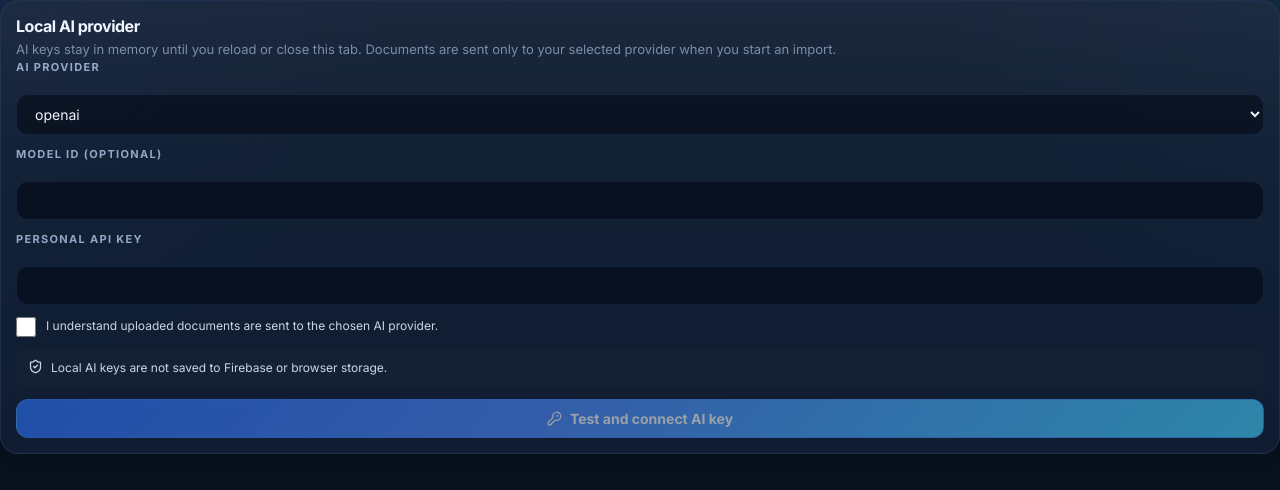
Local AI provider manager session-only UX › never stores a failed provider key
The width and height of the screenshot is (1280, 490).
Type "INVALID_SYNTHETIC_KEY" into the password field labelled "Personal API key" at (640, 285), box left=16, top=266, right=1264, bottom=304
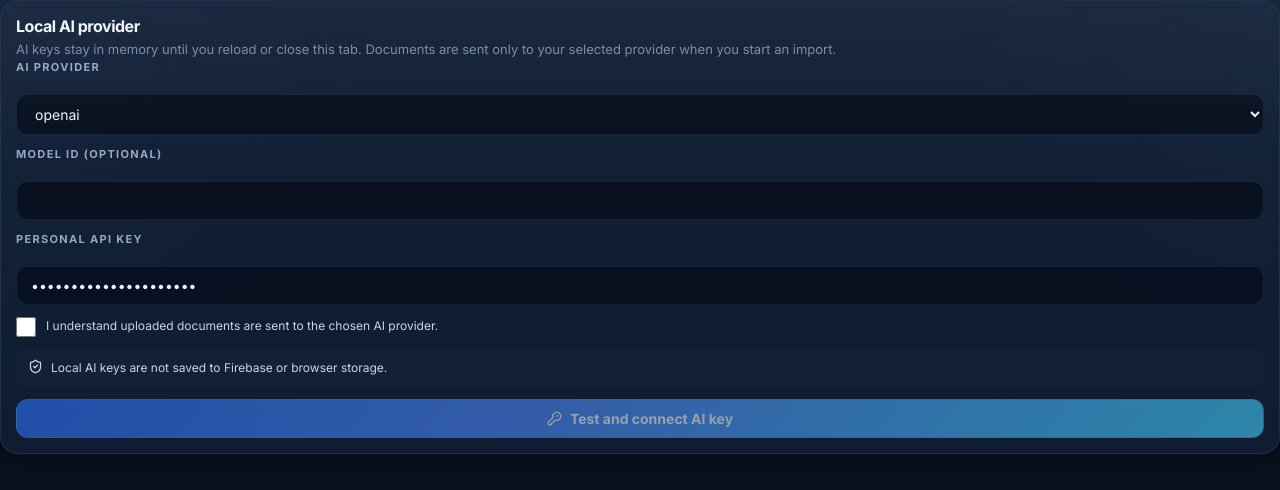
Click the checkbox at (26, 326), box left=16, top=316, right=36, bottom=336
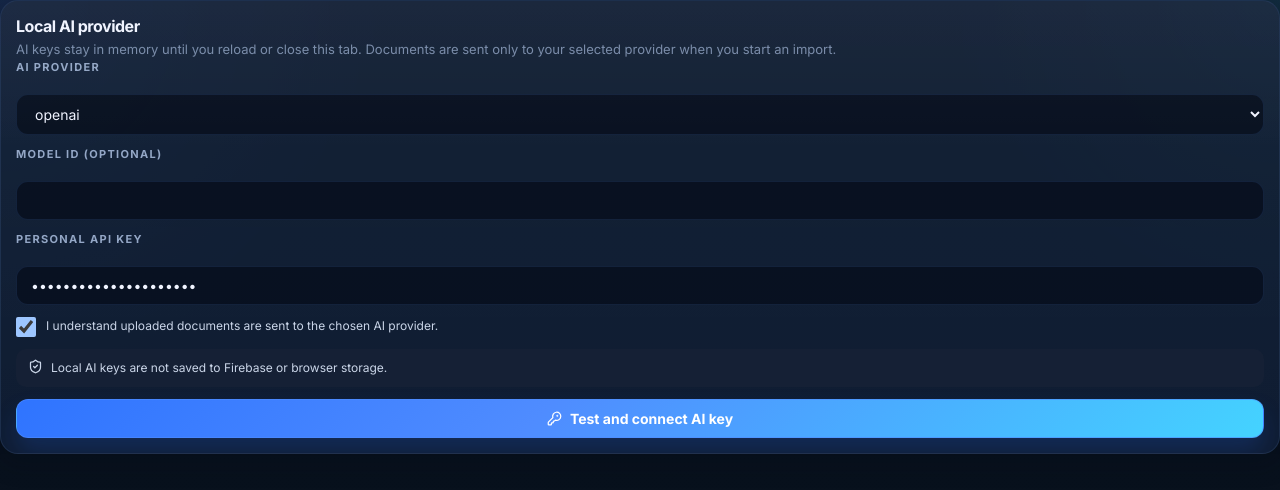
Click the button "Test and connect AI key" at (640, 419), box left=16, top=399, right=1264, bottom=438
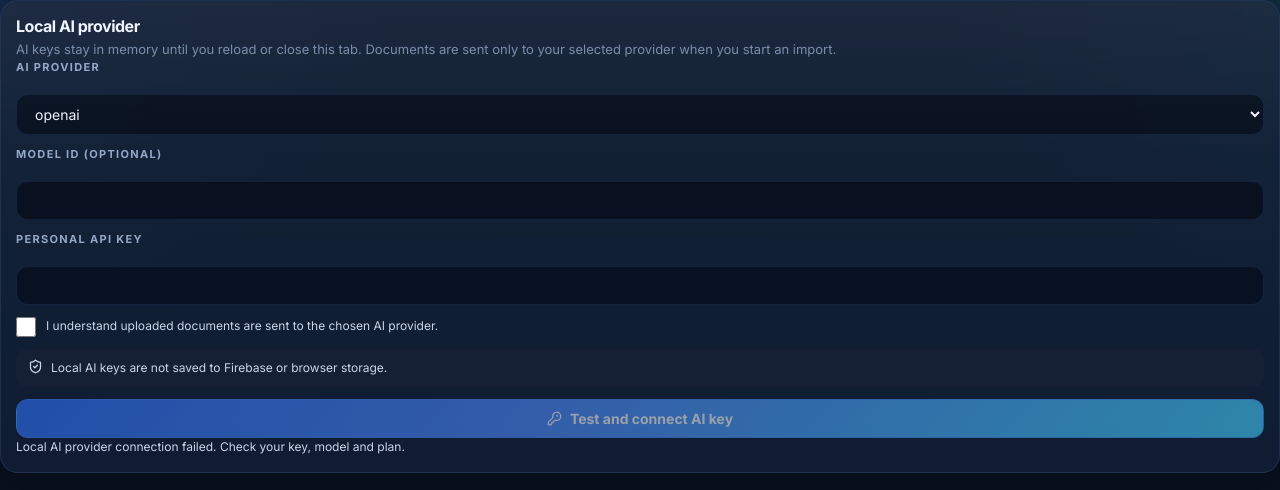
Expected: the text "Local AI provider connection failed. Check your key, model and plan." is shown, left=16, top=439, right=405, bottom=454
